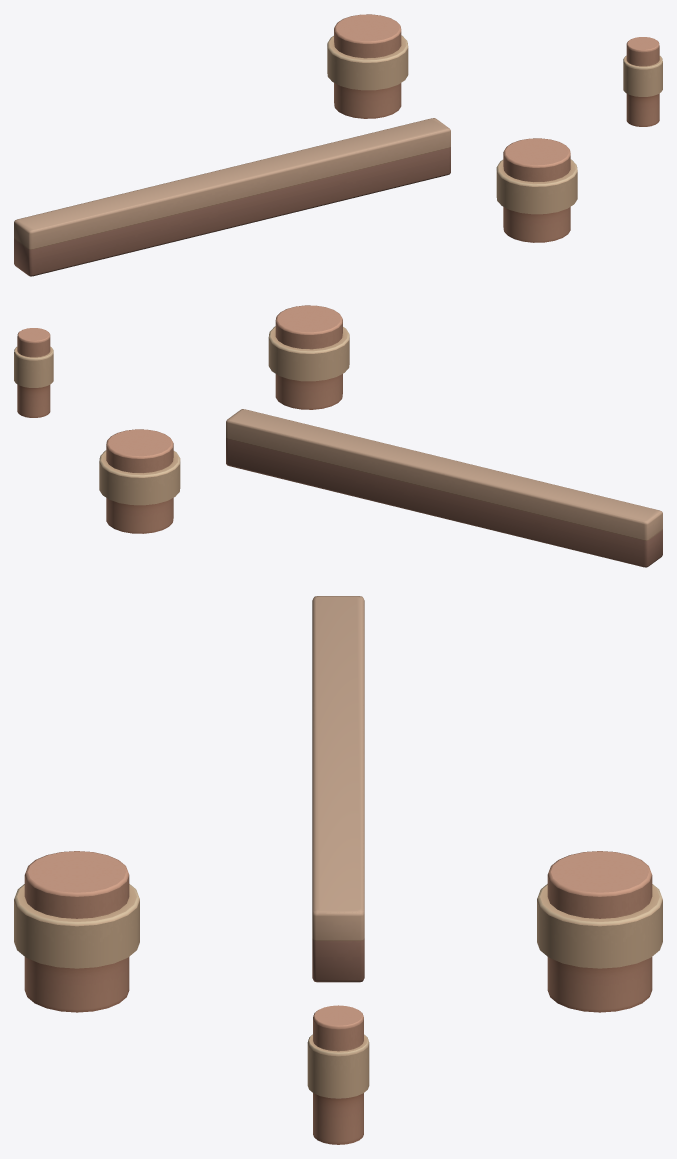
The model's file is Props.fbx.
3 renders of one model, top to bottom at view 1: azimuth 30°, elevation 25°; view 2: azimuth 150°, elevation 25°; view 3: azimuth 270°, elevation 25°, orthographic. The views are drawn at different scales.
Parts seen in each view (by area): view 1: Box20-2, Cylinder (1), Cylinder (3), Cylinder-2; view 2: Box20-2, Cylinder (3), Cylinder (1), Cylinder-2; view 3: Box20-2, Cylinder (1), Cylinder (3), Cylinder-2.
Boxes of the visible parts, x1,y1,x2,y2 form: Box20-2: (14,118,450,276); Cylinder (1): (496,138,577,242); Cylinder (3): (327,14,408,118); Cylinder-2: (623,37,662,126); Box20-2: (226,409,662,567); Cylinder (3): (99,429,180,533); Cylinder (1): (268,305,349,409); Cylinder-2: (14,328,53,417); Box20-2: (312,596,364,982); Cylinder (1): (14,851,139,1012); Cylinder (3): (537,851,662,1012); Cylinder-2: (307,1005,369,1144).
Bounding box in the file's own units: 43.58 × 5 × 24.82.
2 materials, 2 textured.
